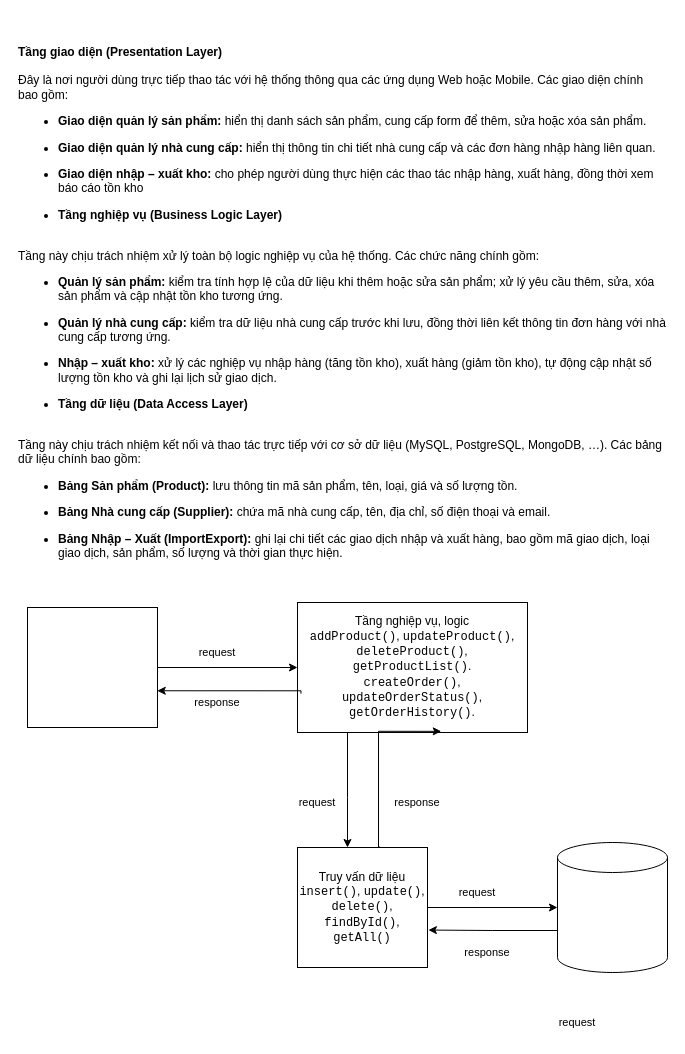
This 685x1054 diagram has some shape labels left out. The centre of each missing label's shape, as x and y in pixels:
DB: (612,907)
Giao diện showProducts() , showOrders() , loginUser() , showRevenueReport(): (92,667)
